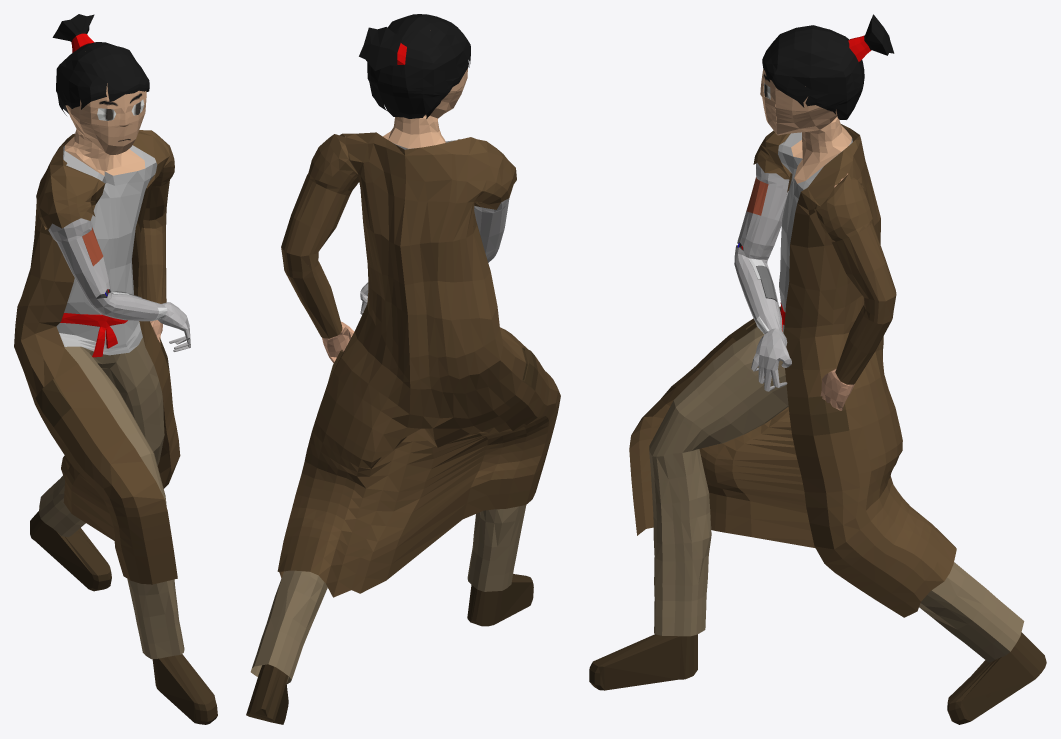
The model's file is One_DR_000010.obj.
The picture shows the model from 3 angles, left to right: view 1: azimuth 30°, elevation 25°; view 2: azimuth 150°, elevation 25°; view 3: azimuth 270°, elevation 25°; orthographic projection. The views are drawn at different scales.
Visible parts, largest first — view 1: Hair_Cube.004; view 2: Hair_Cube.004; view 3: Hair_Cube.004.
Boxes of the visible parts, x1=… form: Hair_Cube.004: x1=14, y1=14, x2=217, y2=724; Hair_Cube.004: x1=246, y1=14, x2=560, y2=724; Hair_Cube.004: x1=589, y1=14, x2=1046, y2=724.
Size of the model in its own units: 1.09 by 3.68 by 2.28.
